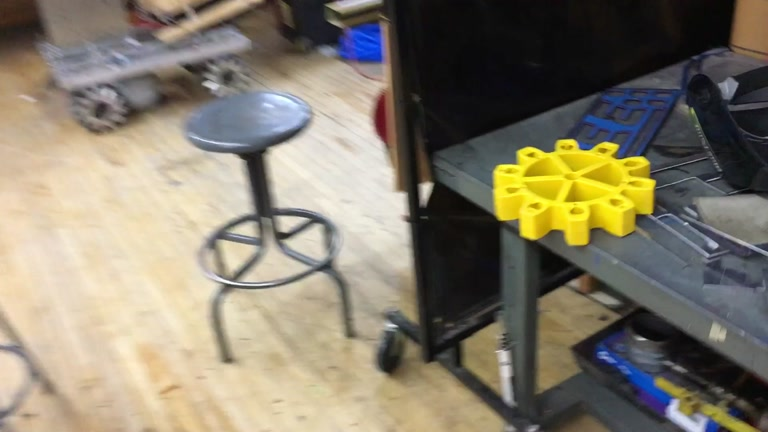gear: (493, 137, 656, 246)
